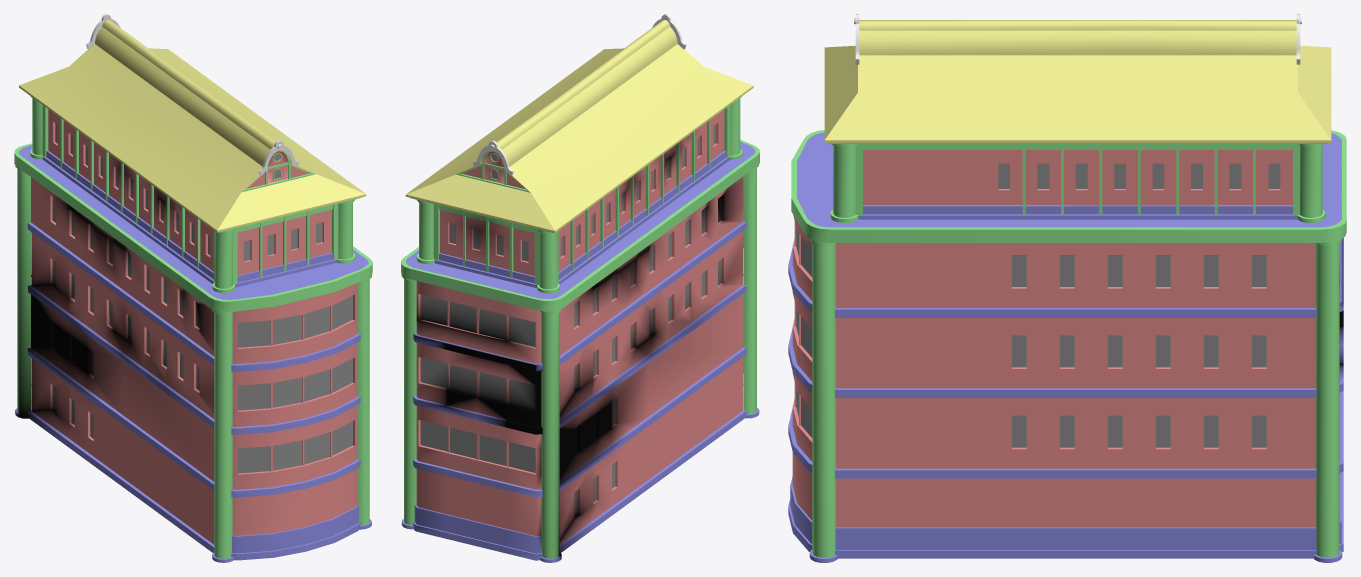
File: SM_ENV_KNVLLG03_AreaA_Building_B.gltf
The picture shows the model from 3 angles, left to right: view 1: azimuth 30°, elevation 25°; view 2: azimuth 150°, elevation 25°; view 3: azimuth 270°, elevation 25°; orthographic projection. The views are drawn at different scales.
Parts seen in each view (by area): view 1: SM_ENV_KNVLLG03_AreaA_Building_B; view 2: SM_ENV_KNVLLG03_AreaA_Building_B; view 3: SM_ENV_KNVLLG03_AreaA_Building_B.
Part boxes in pixels (left/top/right/bottom): SM_ENV_KNVLLG03_AreaA_Building_B: left=14, top=14, right=372, bottom=562; SM_ENV_KNVLLG03_AreaA_Building_B: left=401, top=14, right=759, bottom=562; SM_ENV_KNVLLG03_AreaA_Building_B: left=788, top=14, right=1346, bottom=562.
Size of the model in its own units: 16 by 37.33 by 37.8.
